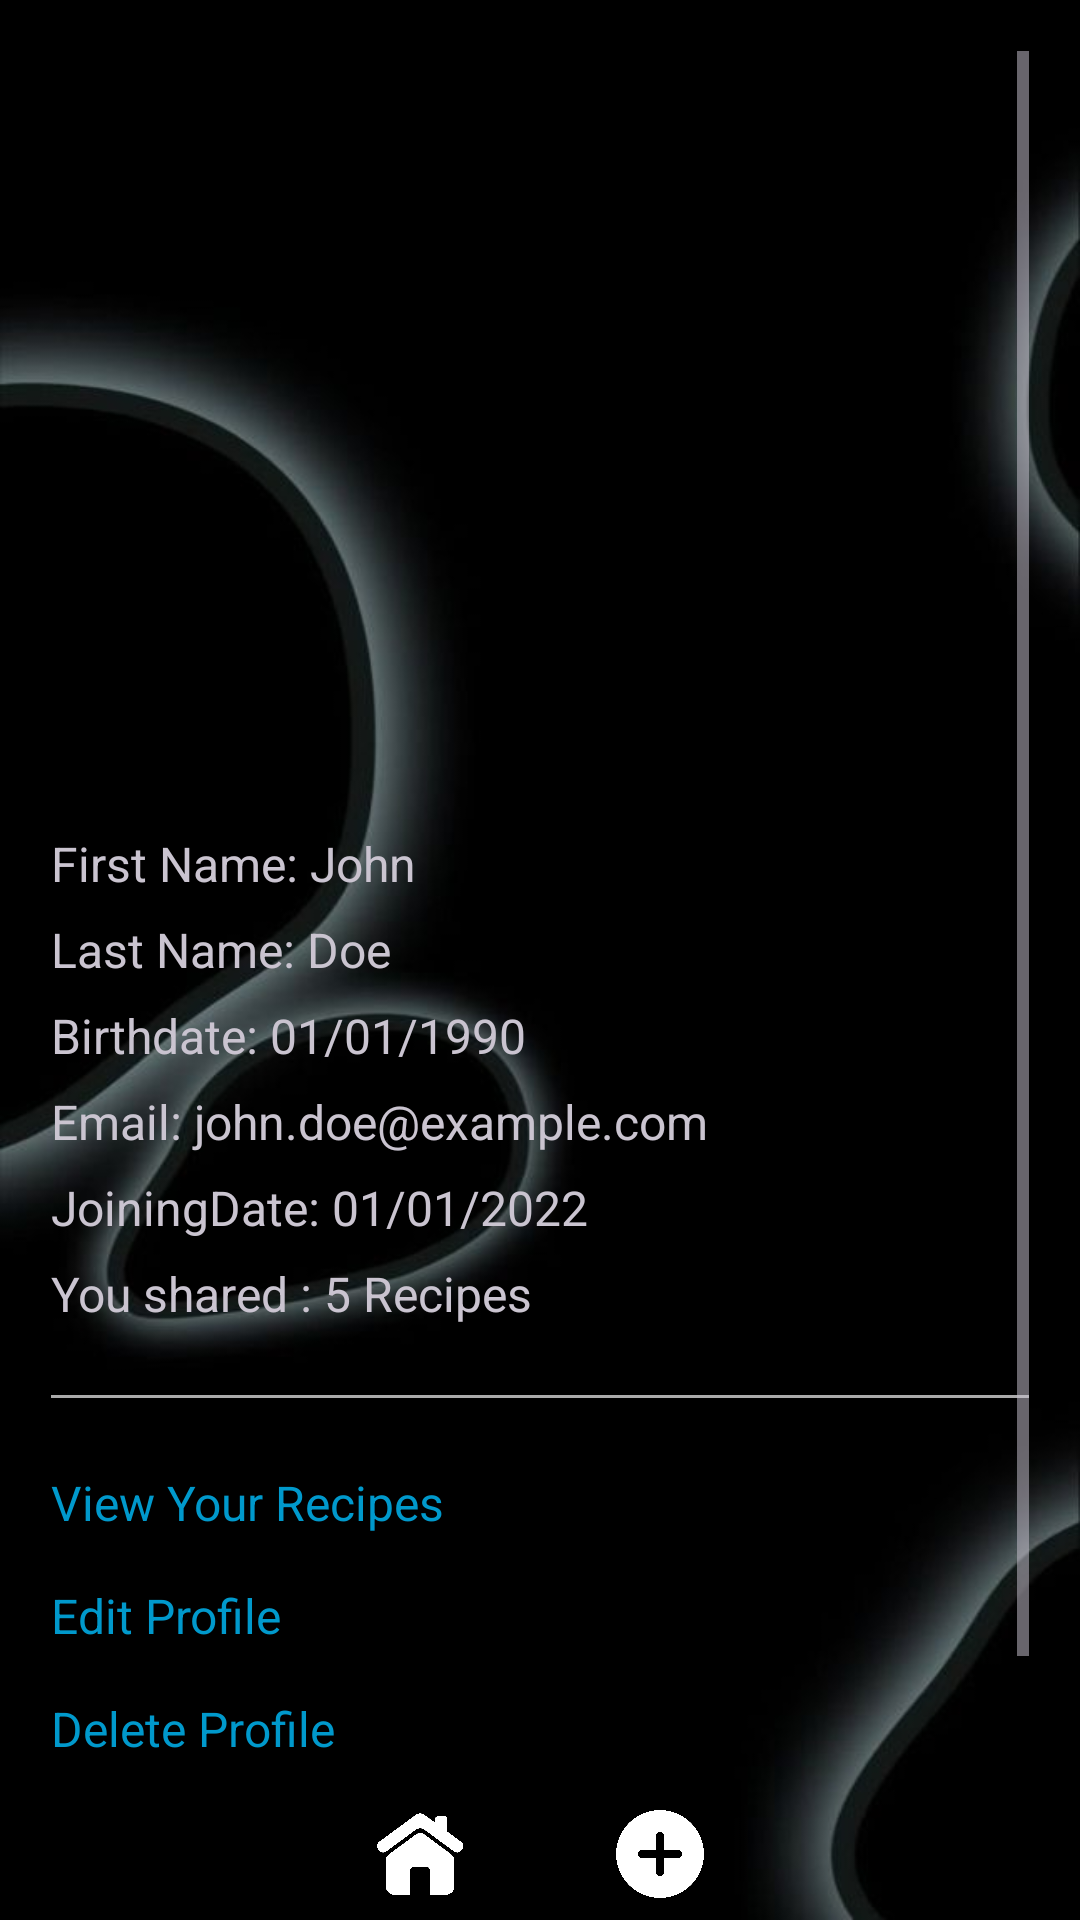

Where icons sit on this 1080px x 1920px app screen, as (x1, y1, x2, y2):
add: (616, 1810, 704, 1898)
home: (377, 1813, 463, 1895)
